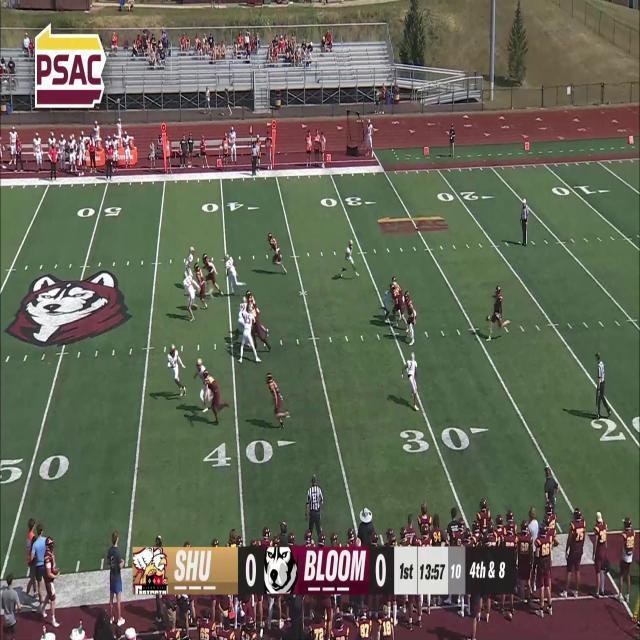football: (486, 314, 490, 322)
